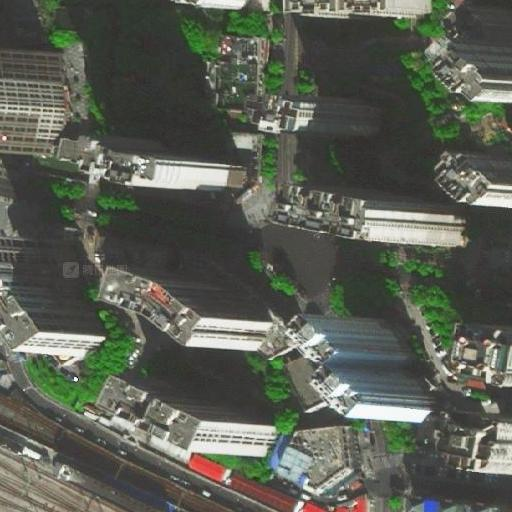building: (98, 377, 277, 459), (100, 270, 265, 345), (307, 198, 480, 255), (3, 273, 103, 357), (81, 139, 240, 190), (281, 309, 412, 368), (52, 454, 172, 511), (247, 92, 385, 140), (327, 368, 438, 423), (280, 423, 367, 493), (0, 46, 62, 143), (204, 33, 258, 111), (438, 415, 512, 471), (222, 465, 302, 510), (282, 352, 332, 414), (146, 433, 195, 467), (189, 453, 230, 483), (295, 496, 342, 512), (82, 405, 107, 425), (424, 491, 443, 512), (357, 488, 369, 512), (442, 353, 454, 376)
